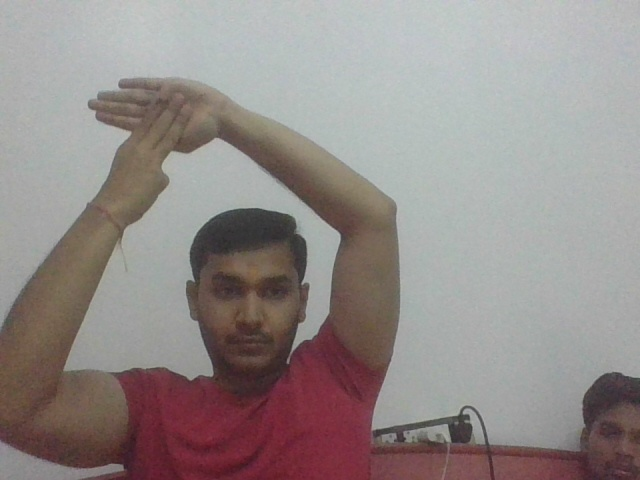M: (86, 74, 217, 194)
